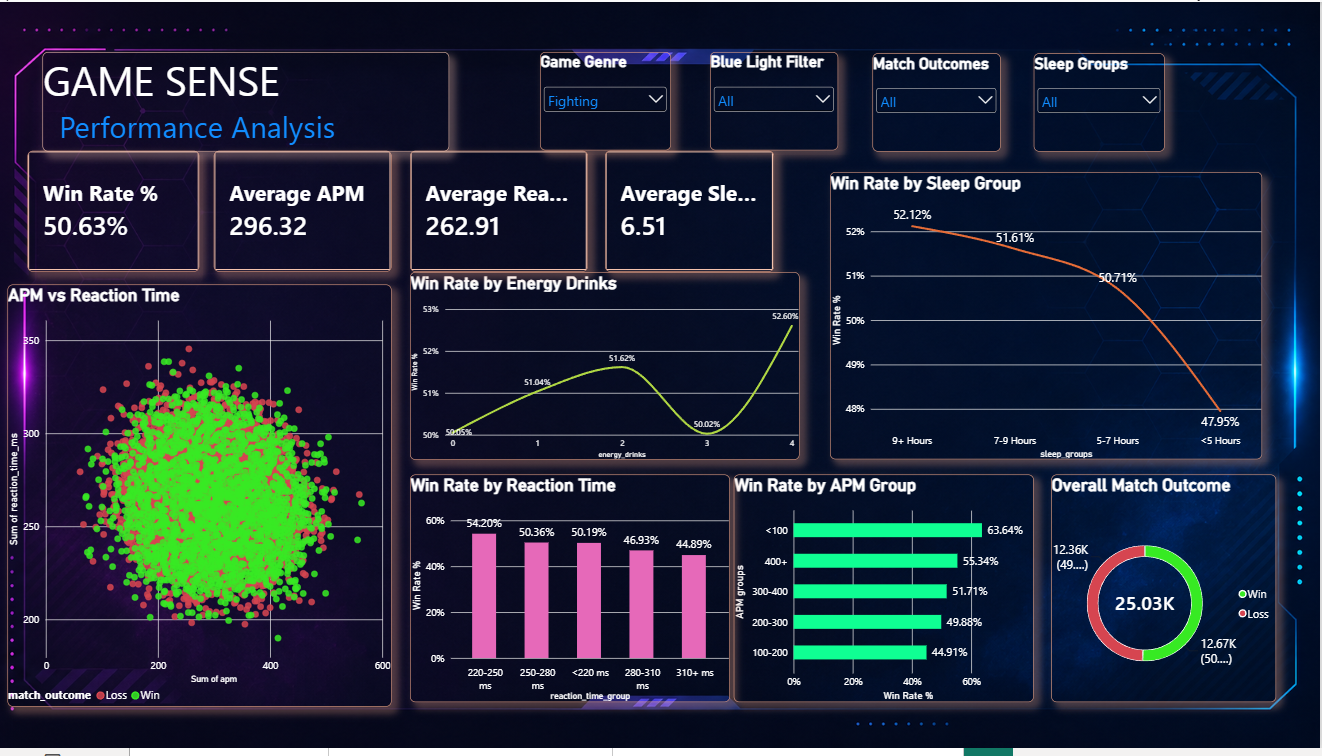

The dashboard page shown, as its layout file describes it:
{"tool":"powerbi","page":{"name":"Game Sense Performance Analysis","canvas":[1920,1080],"ordinal":1},"visuals":[{"type":"lineChart","title":"Win Rate by Sleep Group","fields":{"Category":["Sheet1.sleep_groups"],"Y":["Sheet1.Win Rate %"]},"box":[1208.2,247,625.7,415.8],"z":0},{"type":"slicer","title":"Game Genre","fields":{"Values":["Sheet1.game_genre"]},"box":[788.3,72,189.4,142],"z":1000},{"type":"slicer","title":"Blue Light Filter","fields":{"Values":["Sheet1.blue_light_filter"]},"box":[1035.3,72,185.2,142],"z":2000},{"type":"slicer","title":"Match Outcomes","fields":{"Values":["Sheet1.match_outcome"]},"box":[1270,74.1,185.2,142],"z":3000},{"type":"slicer","title":"Sleep Groups","fields":{"Values":["Sheet1.sleep_groups"]},"box":[1504.6,74.1,189.4,142],"z":4000},{"type":"clusteredBarChart","title":"Win Rate by APM Group","fields":{"Category":["Sheet1.apm_groups"],"Y":["Sheet1.Win Rate %"]},"box":[1070.3,683.4,434.3,329.3],"z":5000},{"type":"columnChart","title":"Win Rate by Reaction Time","fields":{"Category":["Sheet1.reaction_time_group"],"Y":["Sheet1.Win Rate %"]},"box":[601,683.4,463.1,329.3],"z":6000},{"type":"lineChart","title":"Win Rate by Energy Drinks","fields":{"Y":["Sheet1.Win Rate %"],"Category":["Sheet1.energy_drinks"]},"box":[601,391.1,564,271.7],"z":7000},{"type":"scatterChart","title":"APM vs Reaction Time","fields":{"Category":["Sheet1.player_id"],"X":["Sum(Sheet1.apm)"],"Y":["Sum(Sheet1.reaction_time_ms)"],"Series":["Sheet1.match_outcome"]},"box":[18.5,409.6,555.7,611.3],"z":8000},{"type":"donutChart","title":"Overall Match Outcome","fields":{"Category":["Sheet1.match_outcome"],"Y":["CountNonNull(Sheet1.player_id)"]},"box":[1529.3,683.4,325.2,329.3],"z":9000},{"type":"cardVisual","fields":{"Data":["Sheet1.Win Rate %"]},"box":[47.3,216.1,249.1,175],"z":10000},{"type":"cardVisual","fields":{"Data":["Sheet1.Average APM"]},"box":[317,216.1,257.3,175],"z":11000},{"type":"cardVisual","fields":{"Data":["Sheet1.Average Reaction Time"]},"box":[601,216.1,257.3,175],"z":12000},{"type":"cardVisual","fields":{"Data":["Sheet1.Average Sleep Hours"]},"box":[883,216.1,244.9,175],"z":13000},{"type":"textbox","box":[67.9,72,588.7,144.1],"z":14000}]}

Visuals, with their boxes in screenshot pixels (x1, y1, x2, y2), scaled from the page's 1920x1080 canvas onto the 1322x756 screenshot:
"Win Rate by Sleep Group" lineChart: {"x1": 832, "y1": 173, "x2": 1263, "y2": 464}
"Game Genre" slicer: {"x1": 543, "y1": 50, "x2": 673, "y2": 150}
"Blue Light Filter" slicer: {"x1": 713, "y1": 50, "x2": 840, "y2": 150}
"Match Outcomes" slicer: {"x1": 874, "y1": 52, "x2": 1002, "y2": 151}
"Sleep Groups" slicer: {"x1": 1036, "y1": 52, "x2": 1166, "y2": 151}
"Win Rate by APM Group" clusteredBarChart: {"x1": 737, "y1": 478, "x2": 1036, "y2": 709}
"Win Rate by Reaction Time" columnChart: {"x1": 414, "y1": 478, "x2": 733, "y2": 709}
"Win Rate by Energy Drinks" lineChart: {"x1": 414, "y1": 274, "x2": 802, "y2": 464}
"APM vs Reaction Time" scatterChart: {"x1": 13, "y1": 287, "x2": 395, "y2": 715}
"Overall Match Outcome" donutChart: {"x1": 1053, "y1": 478, "x2": 1277, "y2": 709}
cardVisual - Sheet1.Win Rate %: {"x1": 33, "y1": 151, "x2": 204, "y2": 274}
cardVisual - Sheet1.Average APM: {"x1": 218, "y1": 151, "x2": 395, "y2": 274}
cardVisual - Sheet1.Average Reaction Time: {"x1": 414, "y1": 151, "x2": 591, "y2": 274}
cardVisual - Sheet1.Average Sleep Hours: {"x1": 608, "y1": 151, "x2": 777, "y2": 274}
textbox: {"x1": 47, "y1": 50, "x2": 452, "y2": 151}
